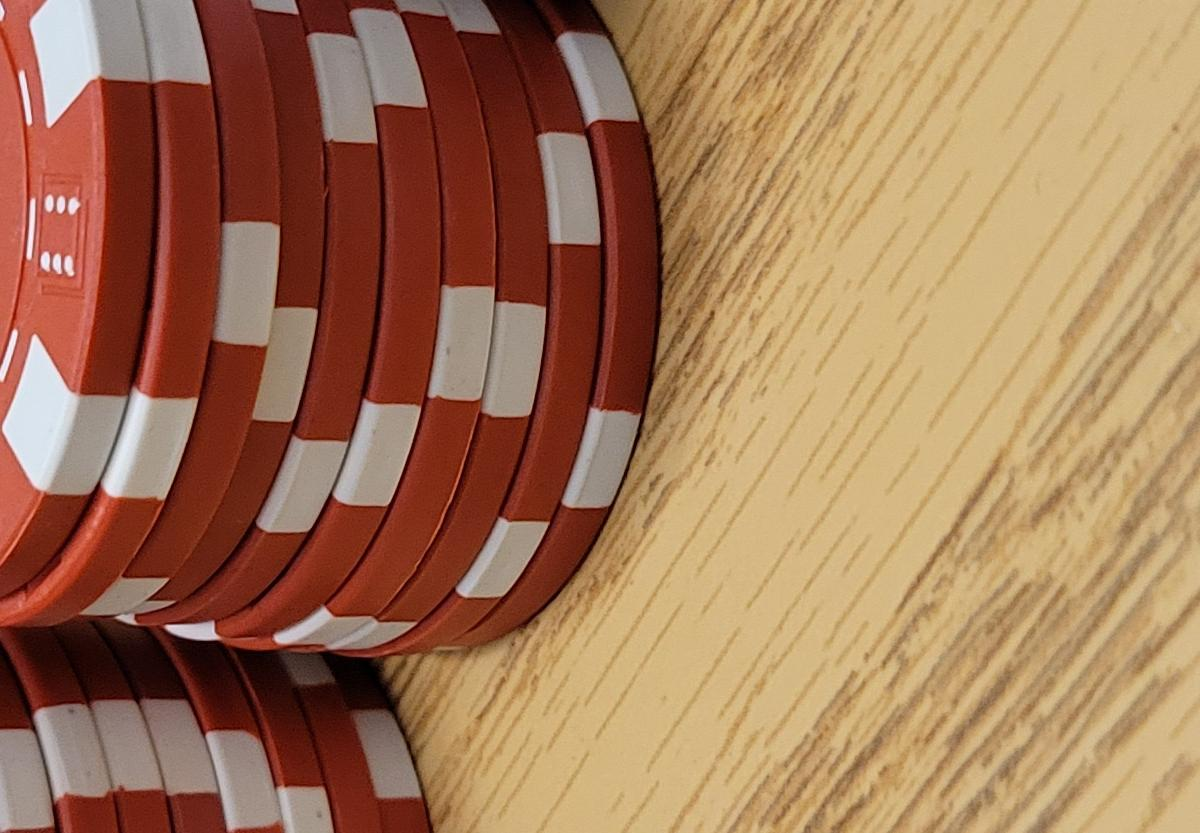Chip: (1, 347, 465, 833)
